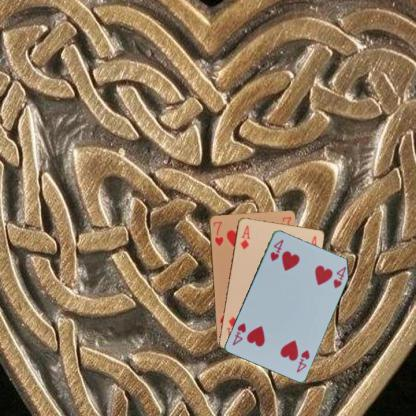4h: (267, 236, 285, 262), (293, 347, 311, 373)
7h: (210, 218, 224, 248)
Ad: (237, 223, 252, 250)
